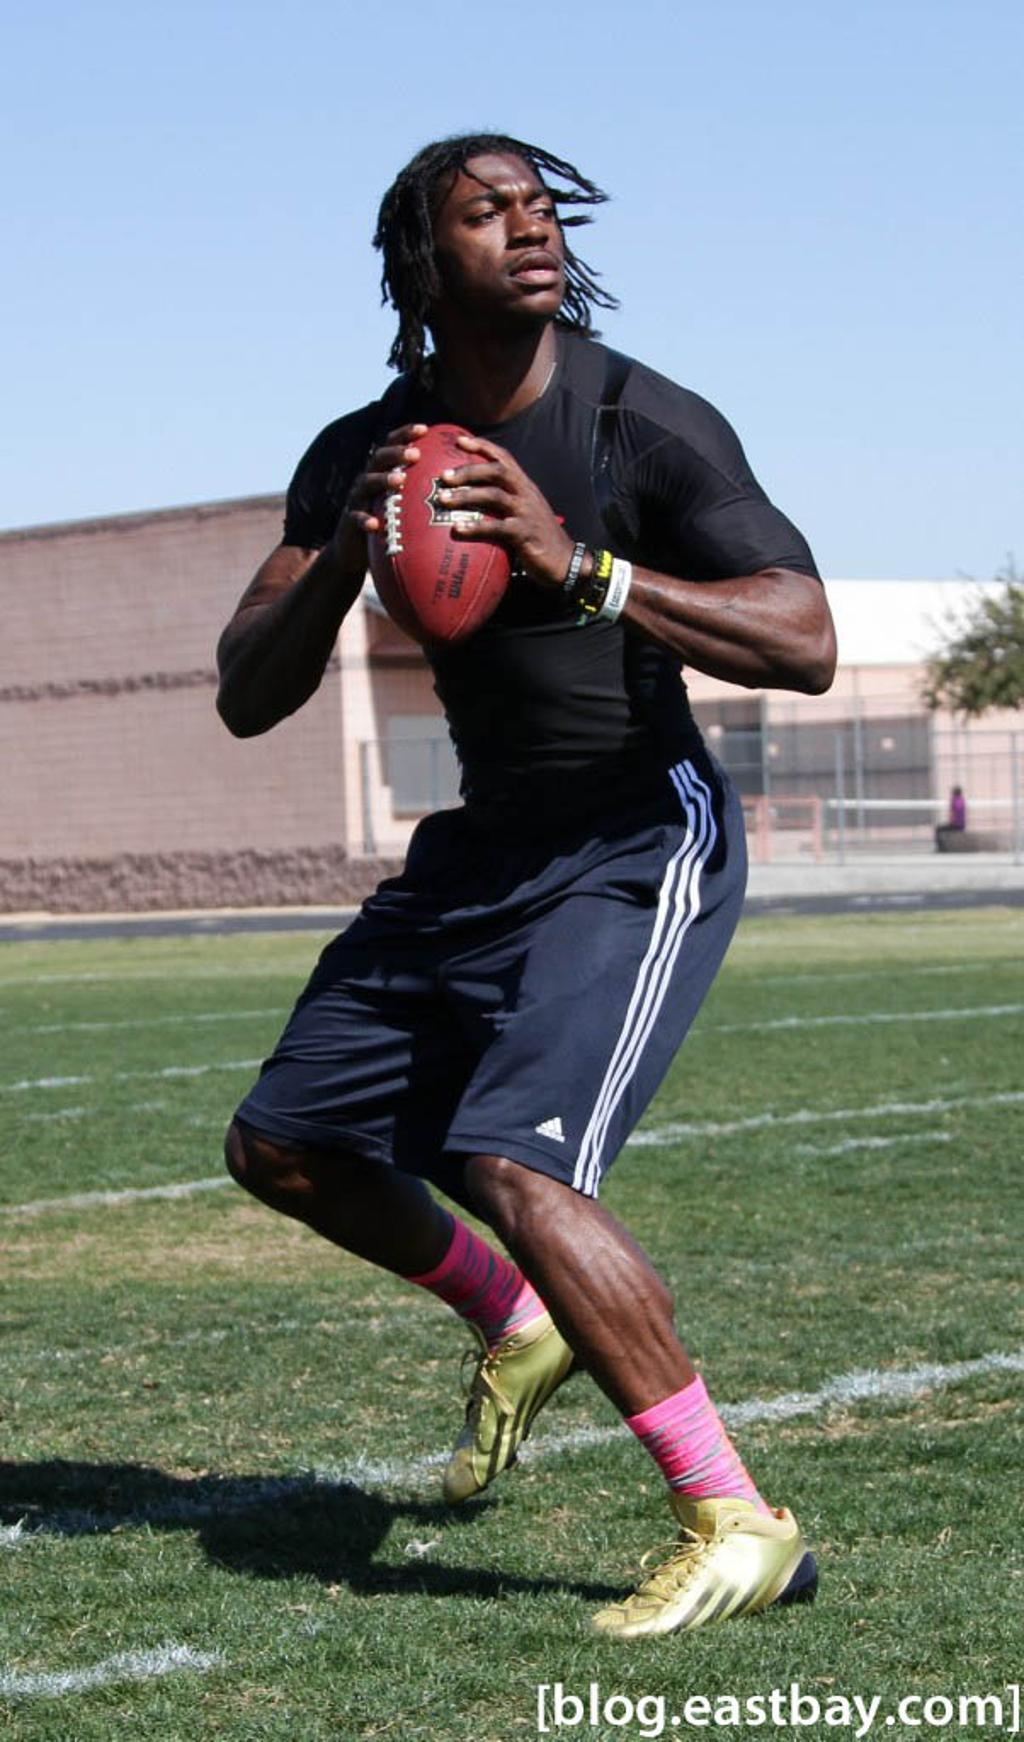face: (430, 154, 573, 317)
